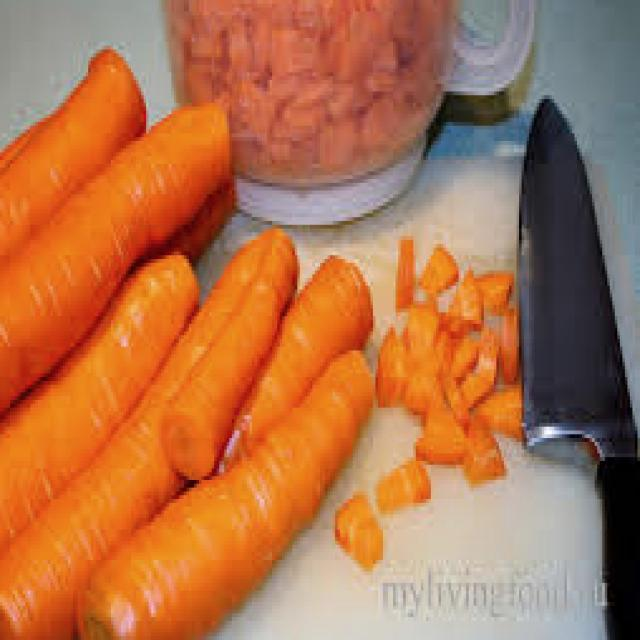Carrot: (0, 228, 312, 640), (0, 99, 254, 484), (75, 346, 393, 640), (0, 252, 209, 640), (362, 206, 564, 570), (158, 0, 454, 175), (0, 38, 156, 304), (161, 248, 299, 486), (232, 245, 385, 453)
